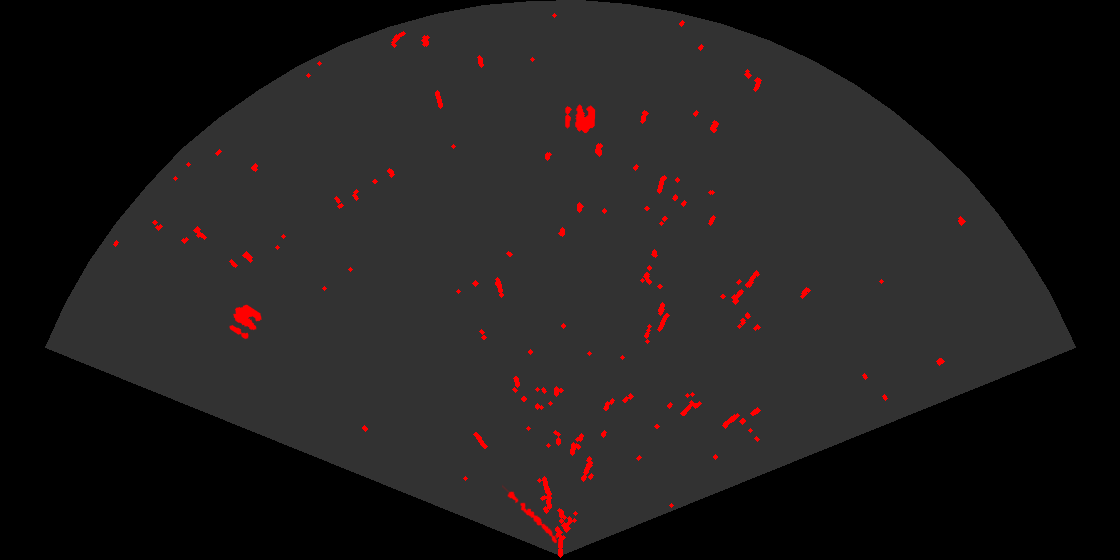ball: (228, 303, 263, 341), (564, 103, 597, 135)
chain: (502, 483, 559, 545)
